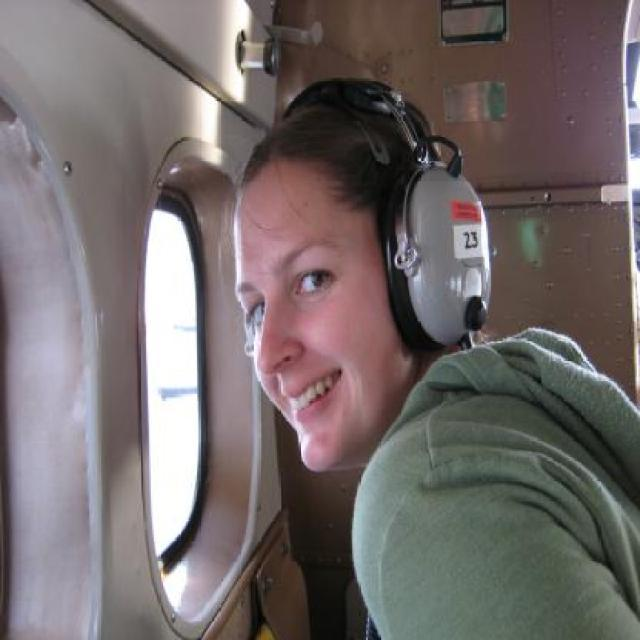earphone: (305, 76, 519, 374)
